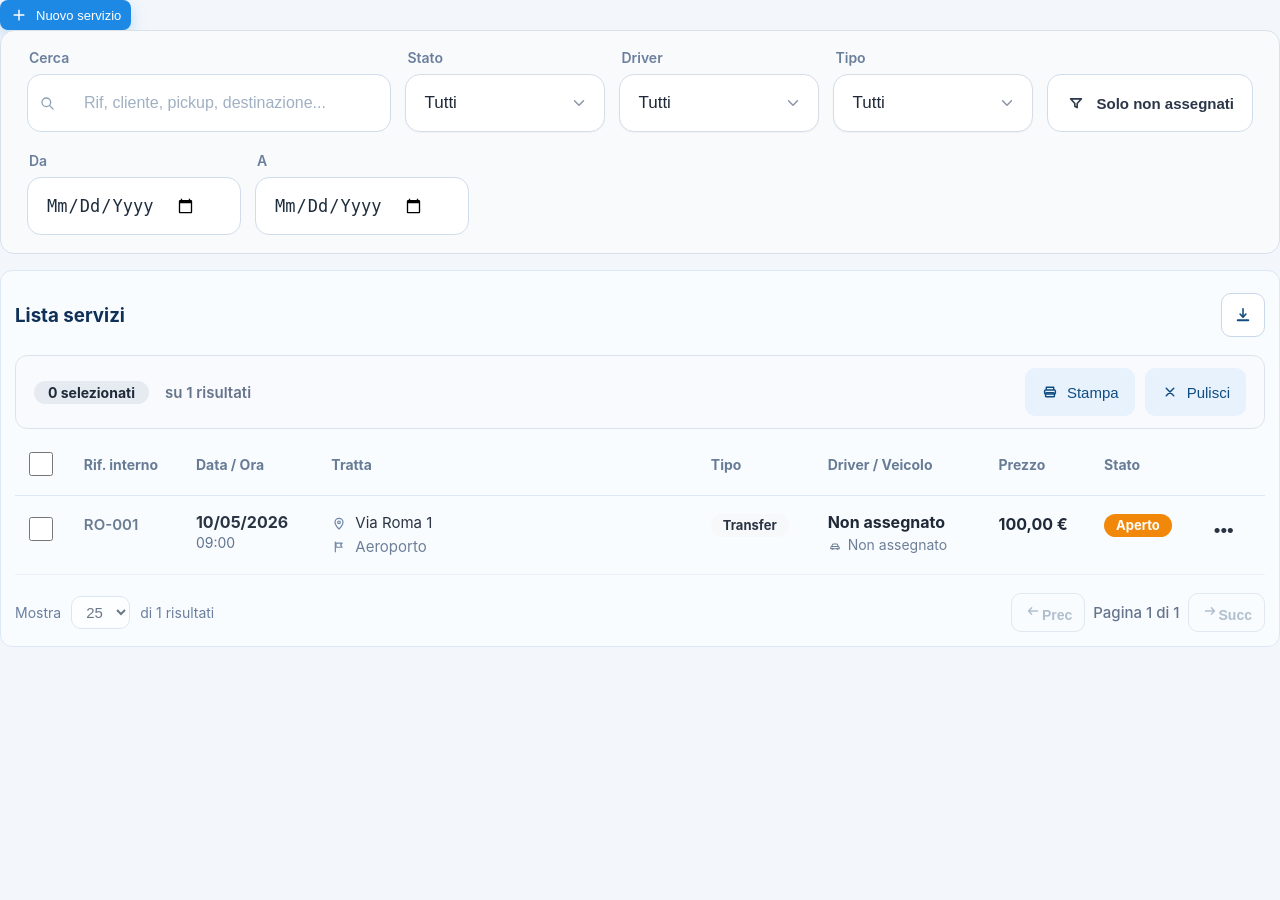
Test case: ServicesPanel – checkbox "Ricevuto da partner" › mostra la checkbox "Ricevuto da partner" in modifica per un servizio INTERNAL
The width and height of the screenshot is (1280, 900).
Click the button named "azioni servizio 1": point(1224, 530) x1=1208 y1=514 x2=1240 y2=546
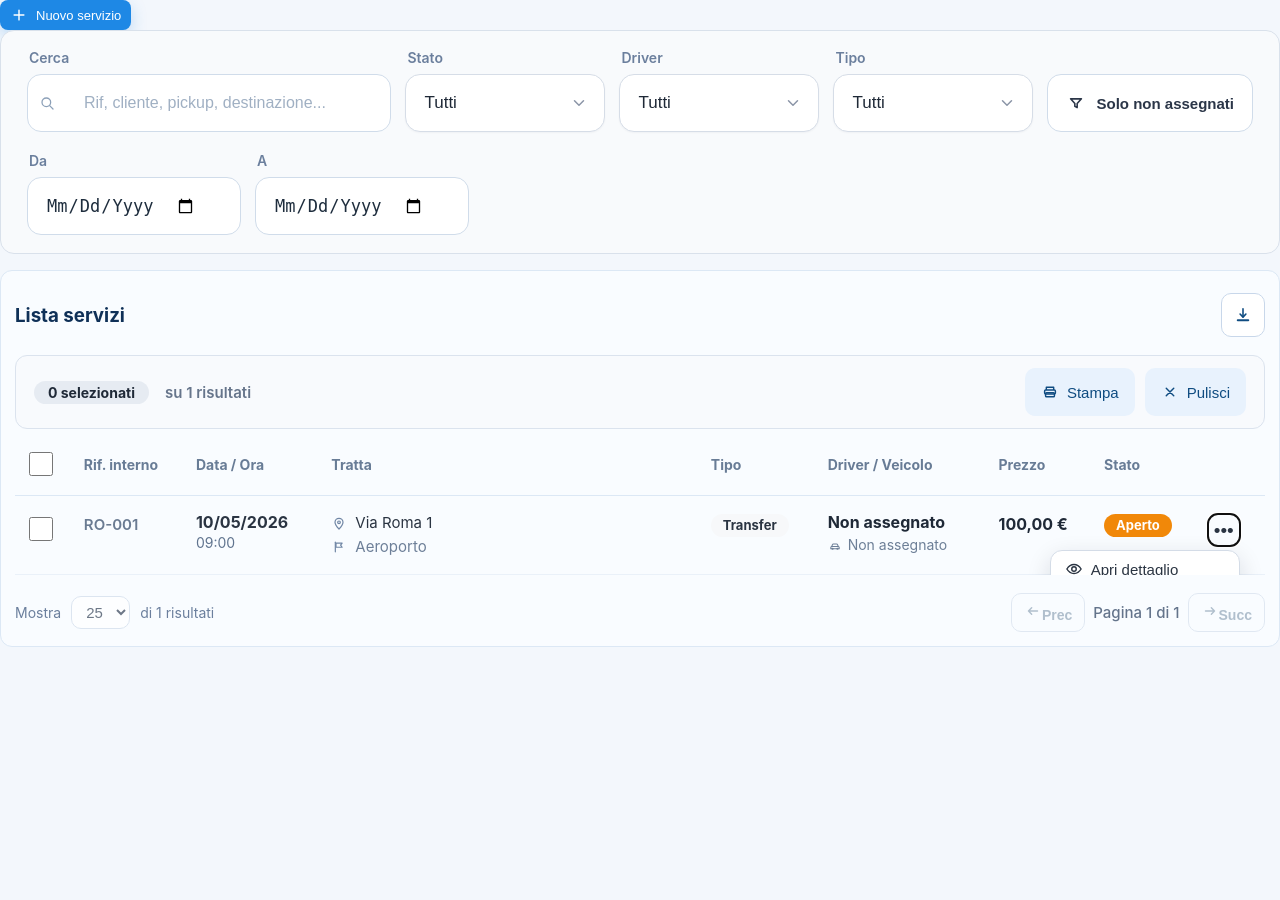
Click the button "Apri dettaglio": point(1145, 569) x1=1051 y1=551 x2=1239 y2=587
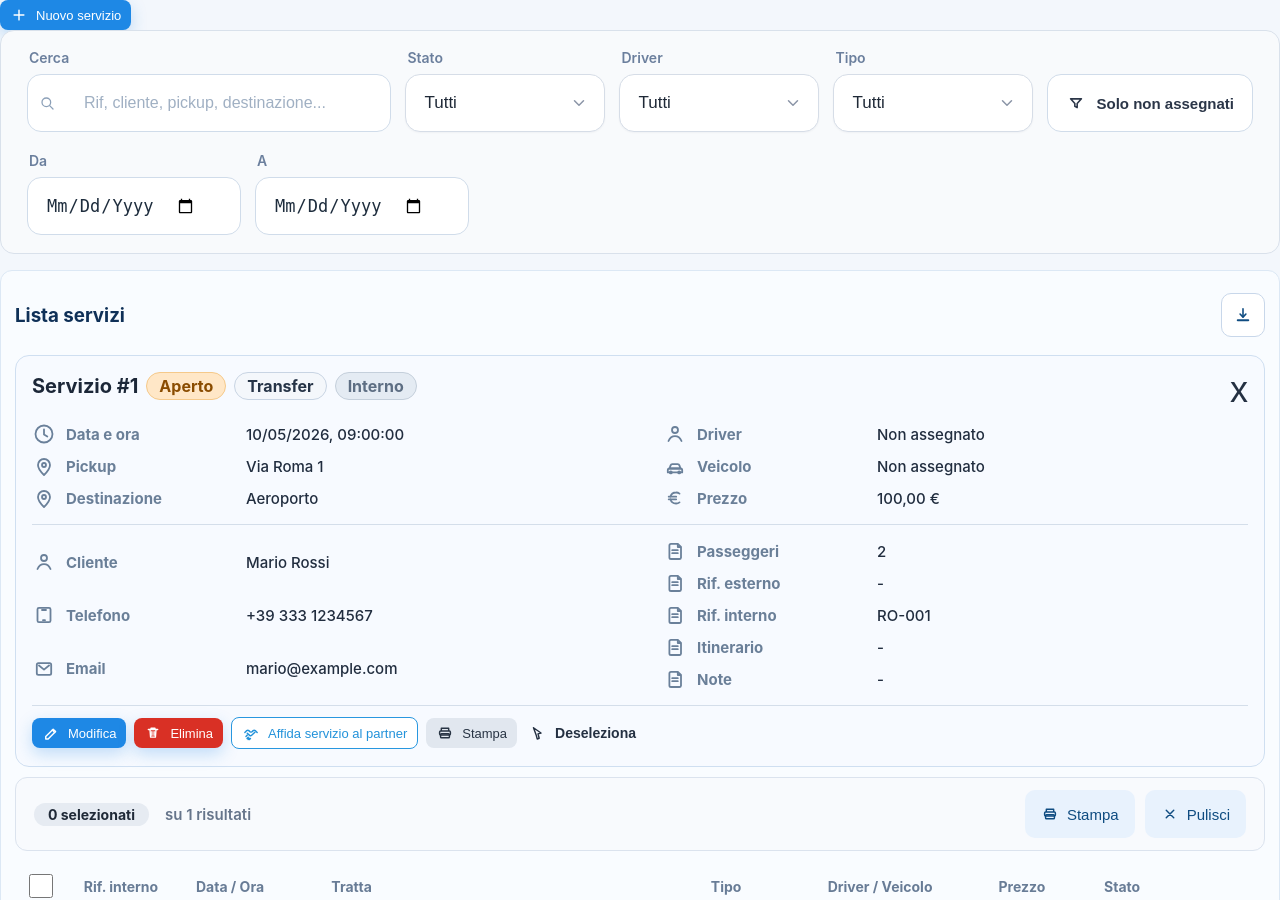
Click the button "Modifica": point(79, 733) x1=32 y1=718 x2=126 y2=748
(page scrolled)
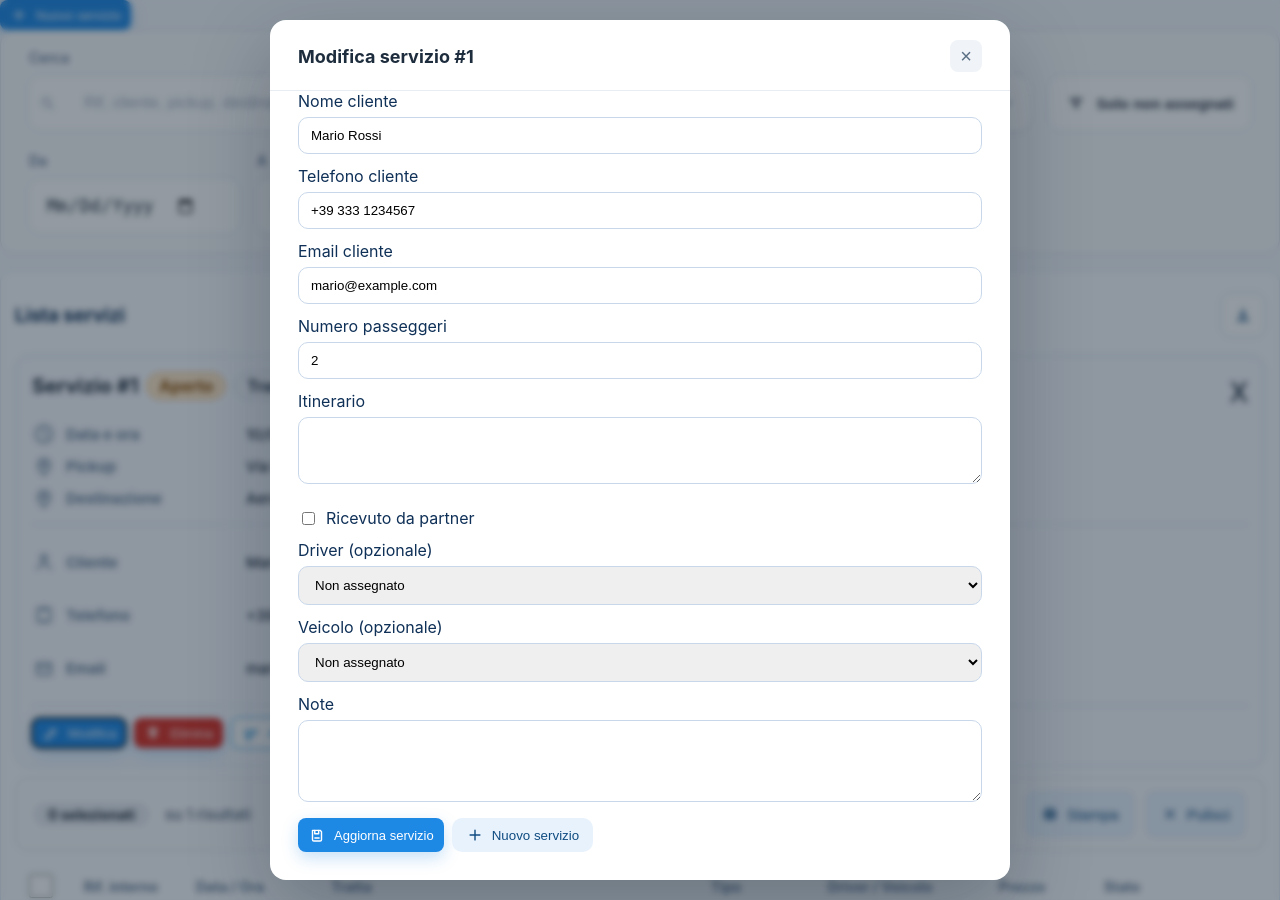
Now the checkbox labelled "Ricevuto da partner" is shown, box x1=302 y1=512 x2=315 y2=525
